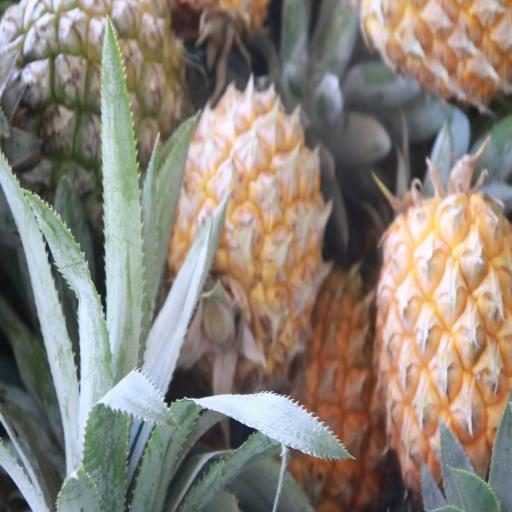Pineapple - v8 v1: (171, 87, 328, 371), (376, 201, 512, 502), (274, 264, 390, 508)
